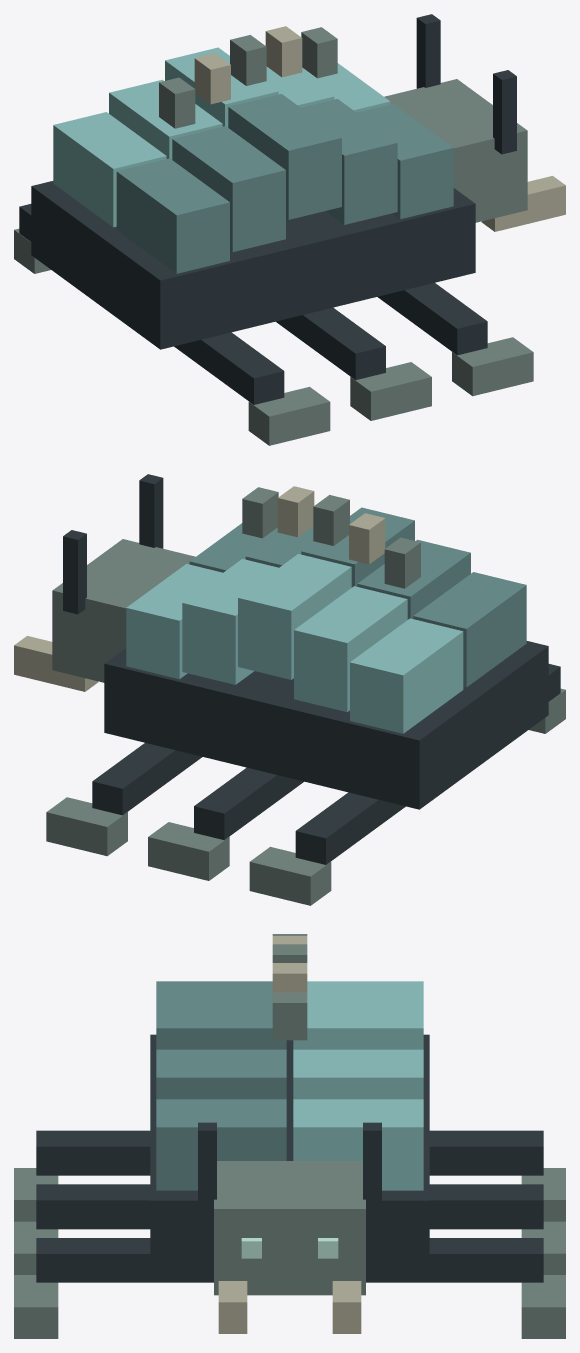
The model's file is facet-skitter.glb.
3 renders of one model, top to bottom at view 1: azimuth 30°, elevation 25°; view 2: azimuth 150°, elevation 25°; view 3: azimuth 270°, elevation 25°, orthographic. The views are drawn at different scales.
Parts seen in each view (by area): view 1: Shell, Body, Legs, Feet, Head, Ridge, Feelers, Mandibles; view 2: Shell, Body, Legs, Feet, Head, Ridge, Feelers, Mandibles; view 3: Shell, Legs, Head, Body, Feet, Ridge, Feelers, Mandibles, Eyes.
Boxes of the visible parts, x1=… form: Shell: x1=53, y1=47, x2=453, y2=273; Body: x1=31, y1=181, x2=475, y2=349; Legs: x1=19, y1=204, x2=487, y2=404; Feet: x1=14, y1=228, x2=533, y2=445; Head: x1=384, y1=79, x2=527, y2=222; Ridge: x1=159, y1=26, x2=337, y2=128; Feelers: x1=416, y1=14, x2=516, y2=154; Mandibles: x1=481, y1=176, x2=565, y2=231; Shell: x1=126, y1=507, x2=526, y2=733; Body: x1=104, y1=641, x2=548, y2=809; Legs: x1=92, y1=664, x2=560, y2=864; Feet: x1=46, y1=688, x2=565, y2=905; Head: x1=52, y1=539, x2=195, y2=682; Ridge: x1=242, y1=486, x2=420, y2=588; Feelers: x1=63, y1=474, x2=163, y2=614; Mandibles: x1=14, y1=636, x2=98, y2=691; Shell: x1=156, y1=981, x2=423, y2=1190; Legs: x1=36, y1=1130, x2=543, y2=1282; Head: x1=214, y1=1161, x2=365, y2=1295; Body: x1=150, y1=1034, x2=429, y2=1275; Feet: x1=14, y1=1168, x2=565, y2=1338; Ridge: x1=272, y1=934, x2=307, y2=1040; Feelers: x1=198, y1=1122, x2=381, y2=1211; Mandibles: x1=218, y1=1281, x2=361, y2=1333; Eyes: x1=241, y1=1238, x2=338, y2=1258.
Size of the model in its own units: 8.6 by 5.33 by 8.7.
